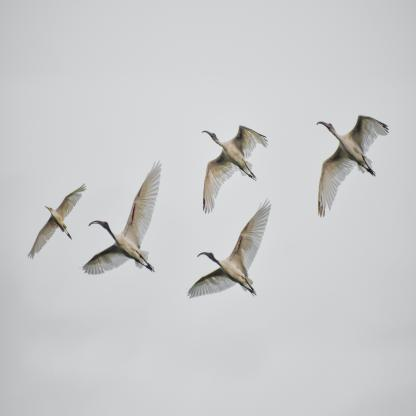bird: (80, 161, 162, 275), (188, 198, 272, 300), (317, 115, 389, 217), (202, 126, 268, 214), (27, 183, 87, 259)
